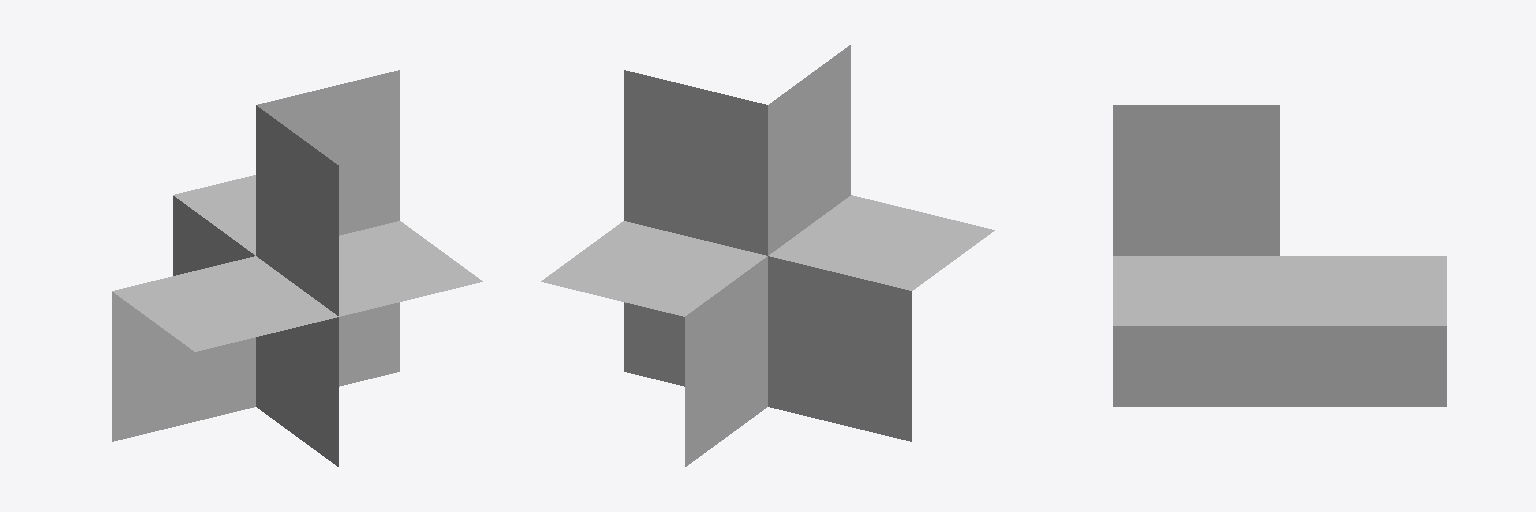
3 renders of one model, left to right at view 1: azimuth 30°, elevation 25°; view 2: azimuth 150°, elevation 25°; view 3: azimuth 270°, elevation 25°, orthographic.
Parts seen in each view (by area): view 1: 1000_0101_立方体.098; view 2: 1000_0101_立方体.098; view 3: 1000_0101_立方体.098.
Boxes of the visible parts, box(x1,y1,x2,y2) form: 1000_0101_立方体.098: box(112, 70, 482, 466); 1000_0101_立方体.098: box(541, 45, 994, 466); 1000_0101_立方体.098: box(1113, 105, 1446, 406).
Bounding box in the file's own units: 1 × 1 × 1.